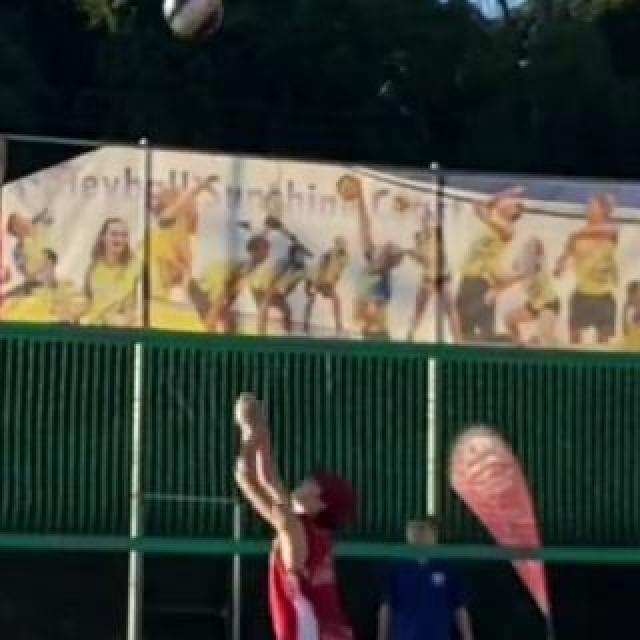volleyball: (164, 0, 222, 40)
